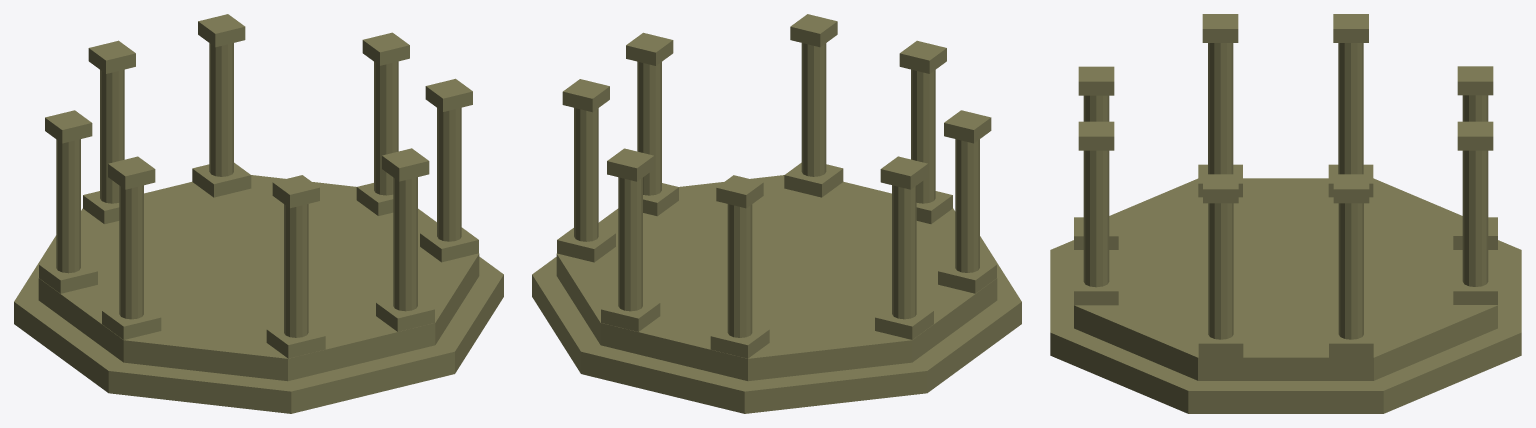
The model's file is temple.dae.
3 views of the same model, side by side, from view 1: azimuth 30°, elevation 25°; view 2: azimuth 150°, elevation 25°; view 3: azimuth 270°, elevation 25° (orthographic). The views are drawn at different scales.
Visible parts, largest first — view 1: templebase1, templebase, columnShaft_ncl1_3, columnShaft_ncl1_1, columnShaft_ncl1_6, columnShaft, columnShaft_ncl1_5, columnShaft_ncl1_7, columnShaft_ncl1_4, columnShaft_ncl1_2, columnPedestal_ncl1_1, columnPedestal_ncl1_5 (+14 smaller); view 2: templebase1, templebase, columnShaft, columnShaft_ncl1_4, columnShaft_ncl1_2, columnShaft_ncl1_7, columnShaft_ncl1_5, columnShaft_ncl1_6, columnShaft_ncl1_1, columnShaft_ncl1_3, columnPedestal, columnPedestal_ncl1_4 (+14 smaller); view 3: templebase1, templebase, columnShaft, columnShaft_ncl1_5, columnShaft_ncl1_2, columnShaft_ncl1_3, columnShaft_ncl1_7, columnShaft_ncl1_6, columnPedestal_ncl1_3, columnPedestal, columnPedestal_ncl1_2, columnPedestal_ncl1_5 (+14 smaller).
Boxes of the visible parts, bbox=[...] form: templebase1: bbox=[38, 175, 479, 381]; templebase: bbox=[14, 235, 503, 413]; columnShaft_ncl1_3: bbox=[437, 107, 461, 241]; columnShaft_ncl1_1: bbox=[284, 204, 308, 337]; columnShaft_ncl1_6: bbox=[119, 185, 143, 319]; columnShaft: bbox=[393, 177, 417, 311]; columnShaft_ncl1_5: bbox=[209, 43, 233, 176]; columnShaft_ncl1_7: bbox=[56, 139, 80, 273]; columnShaft_ncl1_4: bbox=[100, 69, 124, 203]; columnShaft_ncl1_2: bbox=[374, 61, 398, 195]; columnPedestal_ncl1_1: bbox=[266, 324, 325, 358]; columnPedestal_ncl1_5: bbox=[192, 162, 251, 197]; templebase1: bbox=[556, 175, 997, 381]; templebase: bbox=[532, 236, 1021, 413]; columnShaft: bbox=[801, 43, 826, 176]; columnShaft_ncl1_4: bbox=[727, 204, 752, 337]; columnShaft_ncl1_2: bbox=[574, 108, 598, 241]; columnShaft_ncl1_7: bbox=[892, 185, 916, 319]; columnShaft_ncl1_5: bbox=[618, 177, 642, 311]; columnShaft_ncl1_6: bbox=[955, 139, 979, 272]; columnShaft_ncl1_1: bbox=[911, 69, 935, 203]; columnShaft_ncl1_3: bbox=[637, 61, 661, 195]; columnPedestal: bbox=[784, 162, 843, 197]; columnPedestal_ncl1_4: bbox=[710, 324, 769, 358]; templebase1: bbox=[1074, 178, 1497, 380]; templebase: bbox=[1050, 240, 1521, 413]; columnShaft: bbox=[1083, 150, 1109, 287]; columnShaft_ncl1_5: bbox=[1462, 150, 1488, 286]; columnShaft_ncl1_2: bbox=[1338, 203, 1363, 339]; columnShaft_ncl1_3: bbox=[1208, 203, 1233, 339]; columnShaft_ncl1_7: bbox=[1338, 43, 1363, 174]; columnShaft_ncl1_6: bbox=[1208, 43, 1233, 174]; columnPedestal_ncl1_3: bbox=[1198, 325, 1243, 357]; columnPedestal: bbox=[1074, 272, 1118, 305]; columnPedestal_ncl1_2: bbox=[1329, 325, 1373, 357]; columnPedestal_ncl1_5: bbox=[1453, 272, 1497, 304].
Bounding box in the file's own units: 18.48 × 9.2 × 18.48.
